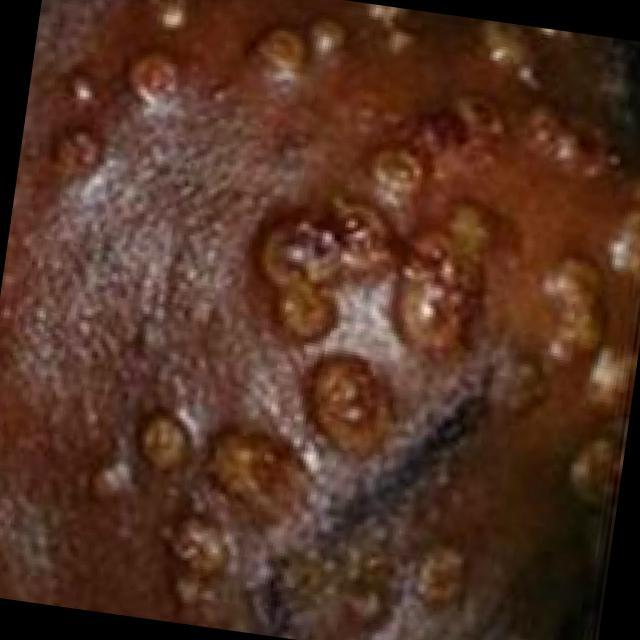Eczema: (57, 10, 640, 623)
